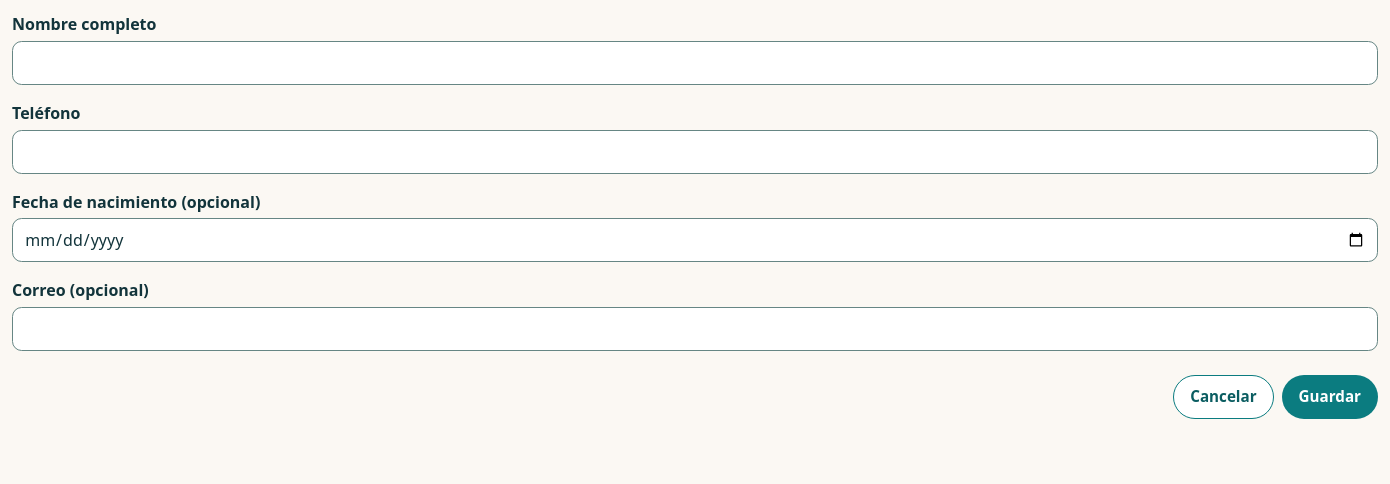
Test: PatientForm › muestra errores junto a cada campo y no envia datos invalidos
Type "Al" into the field labelled "Nombre completo". click: (695, 63)
box: left=12, top=41, right=1378, bottom=85
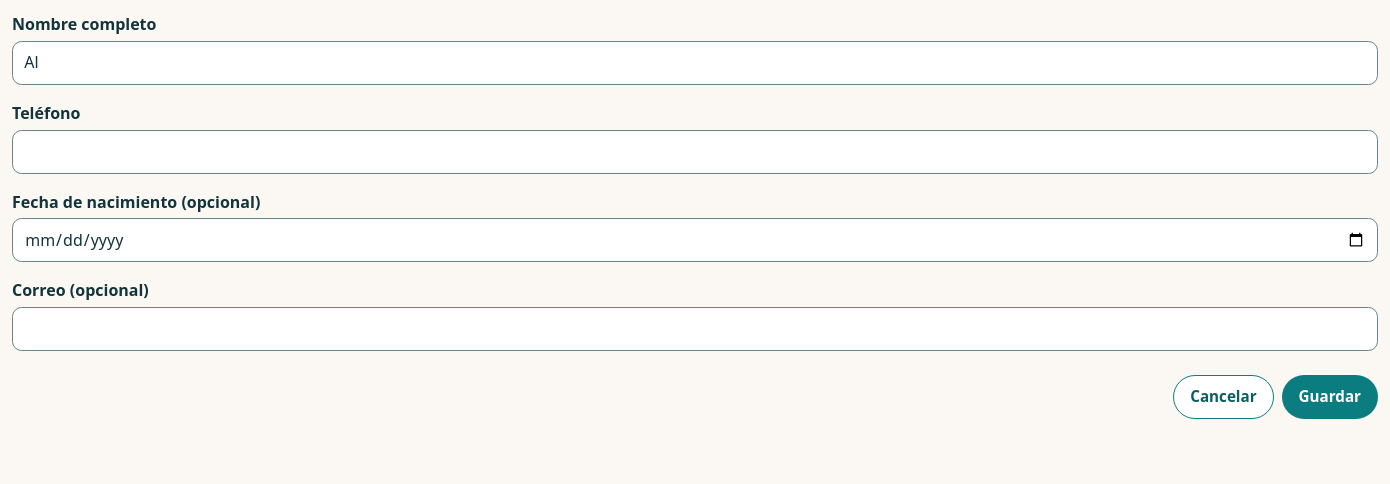
Type "123" into the field labelled "Teléfono". click: (695, 152)
box: left=12, top=130, right=1378, bottom=174
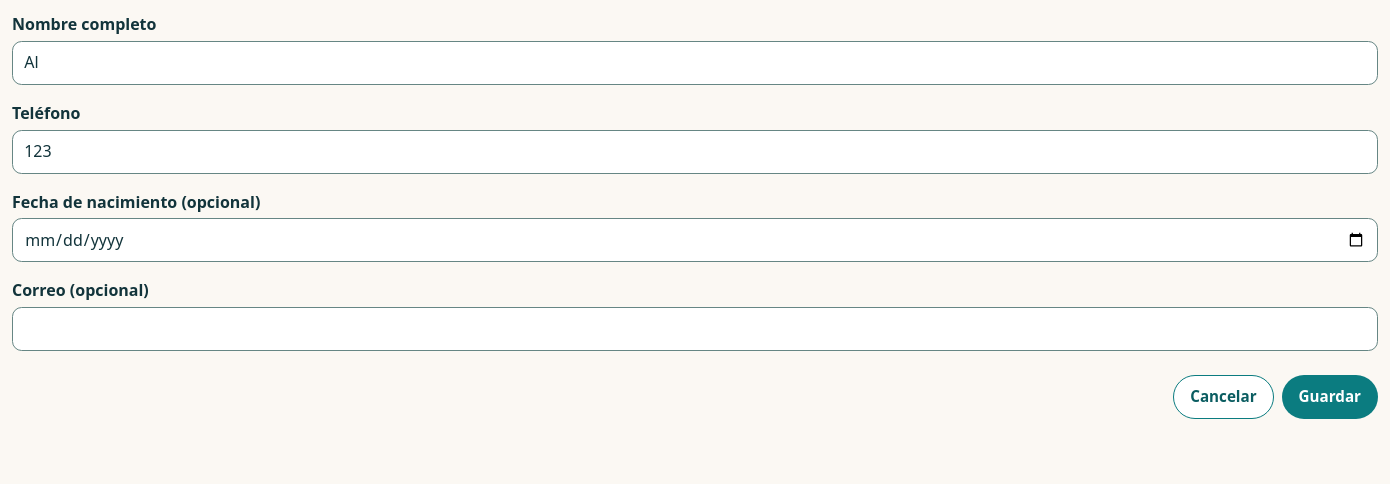
Click the button "Guardar". click: (1330, 397)
box: left=1282, top=375, right=1378, bottom=419
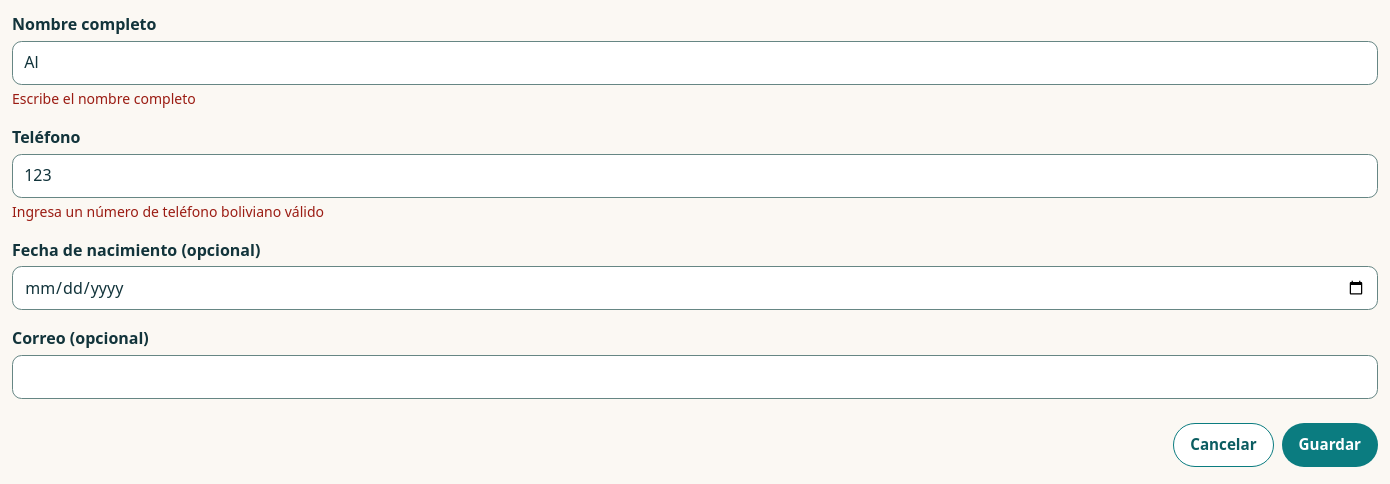
Result: the number of messages is 2 at left=12, top=89, right=196, bottom=108; left=12, top=202, right=324, bottom=221
